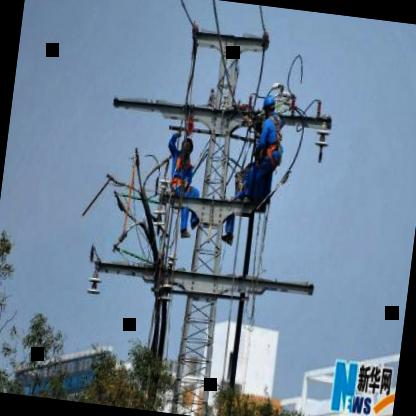helmet: (259, 88, 279, 124)
